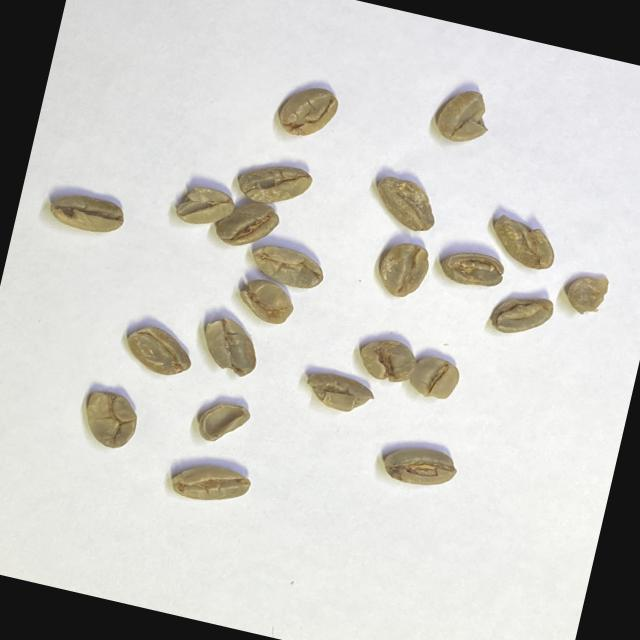bad: (167, 454, 254, 512), (119, 319, 198, 382), (367, 172, 443, 236), (484, 211, 562, 273), (195, 312, 265, 380), (233, 154, 314, 212), (378, 438, 461, 494), (431, 82, 498, 150), (246, 240, 328, 294), (76, 386, 142, 453), (274, 80, 342, 144), (46, 187, 128, 240), (372, 237, 434, 304), (486, 286, 556, 344), (300, 368, 377, 418), (354, 332, 422, 388), (172, 180, 238, 233), (436, 244, 507, 293), (234, 275, 298, 328), (193, 395, 253, 450), (406, 352, 464, 404), (562, 267, 611, 319)
good: (212, 193, 284, 255)
